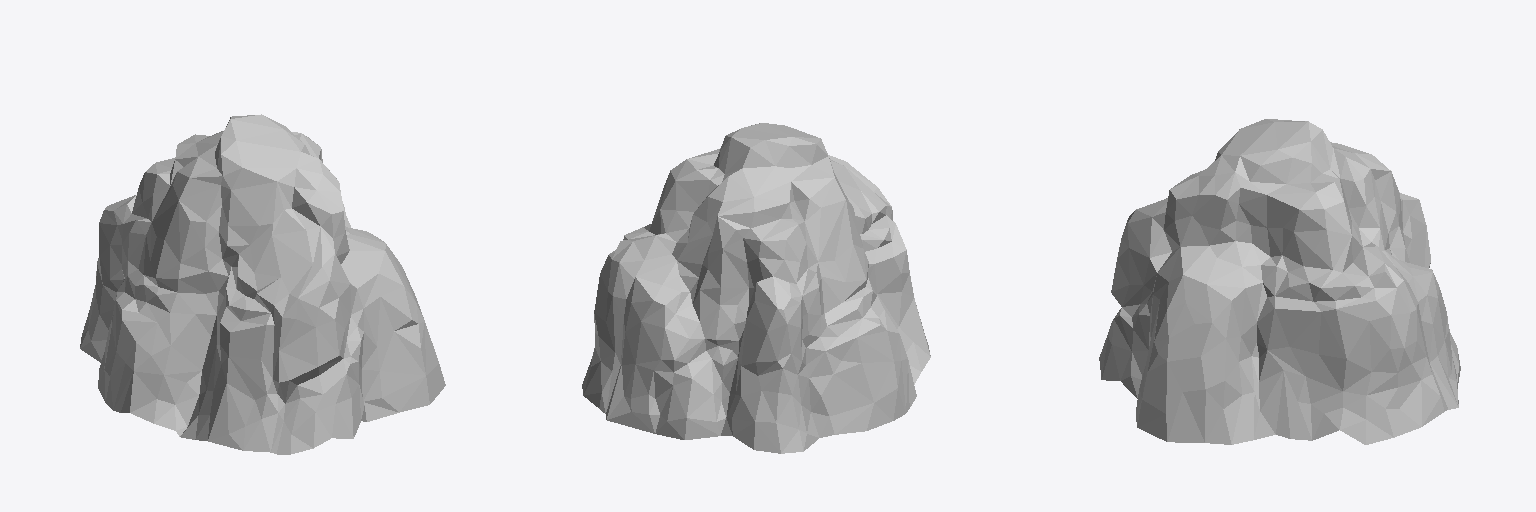
Rendered from Rock_big_single_b_LOD0.obj.
3 views of the same model, side by side, from view 1: azimuth 30°, elevation 25°; view 2: azimuth 150°, elevation 25°; view 3: azimuth 270°, elevation 25° (orthographic).
Bounding box in the file's own units: 129 × 113 × 144.